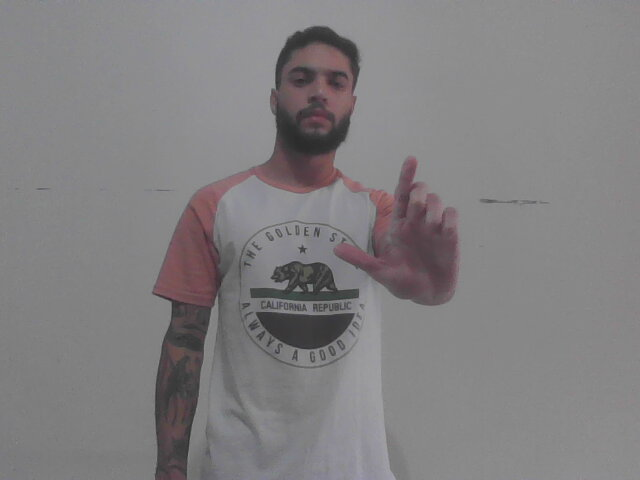l: (332, 152, 462, 303)
